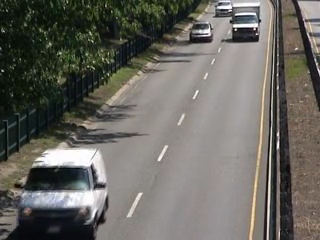car: (189, 21, 214, 46), (214, 1, 232, 18)
truck: (14, 146, 111, 240), (229, 2, 263, 43)
